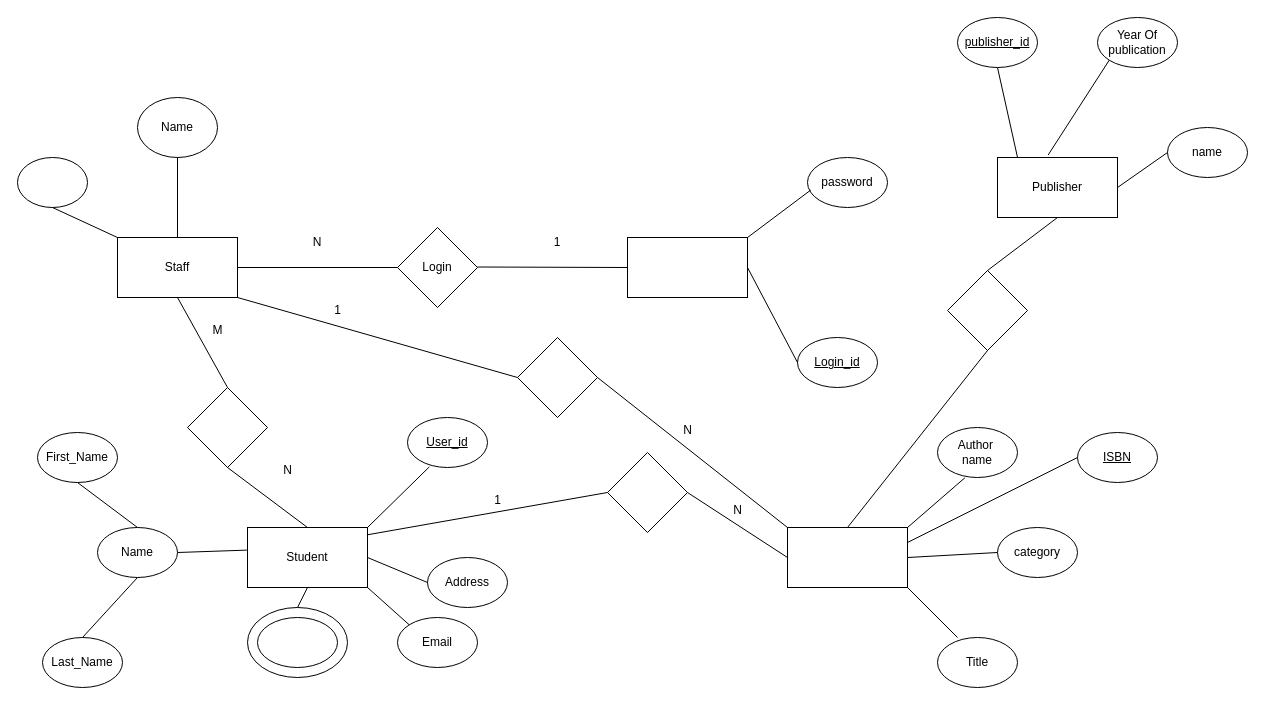
Image size: 1265x705. Some labels were removed from this diagram. Each missing label, with the centre of its shape:
Authentication System: point 687,267
Books: point 847,557
Keeps track off: point 227,427
Maintain: point 557,377
Phone_no: point 297,642
Publishes: point 987,310
Return Date: point 647,492
Staff_id: point 52,182
